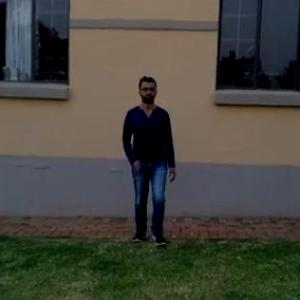follow: (124, 74, 176, 244)
